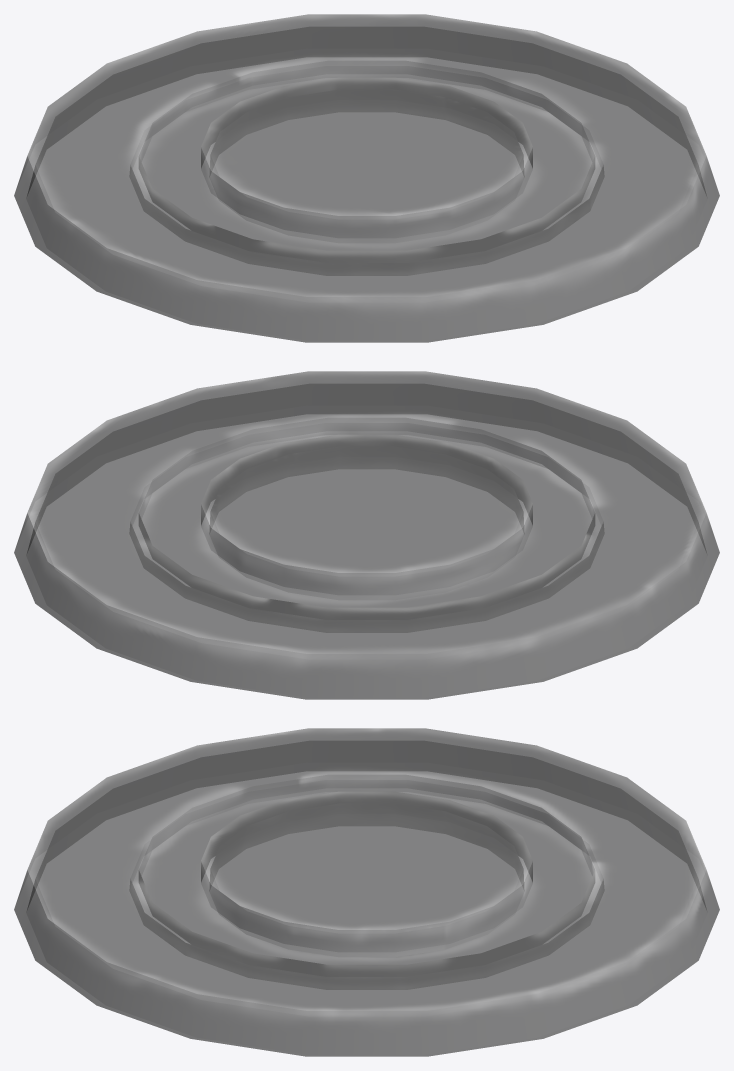
Rendered from lid.fbx.
The picture shows the model from 3 angles, top to bottom: view 1: azimuth 30°, elevation 25°; view 2: azimuth 150°, elevation 25°; view 3: azimuth 270°, elevation 25°; orthographic projection.
Visible parts, largest first — view 1: Lid; view 2: Lid; view 3: Lid.
Boxes of the visible parts, <box> form: Lid: <box>14,14,719,342</box>; Lid: <box>14,371,719,699</box>; Lid: <box>14,728,719,1056</box>.
Size of the model in its own units: 27.25 by 2.26 by 27.67.
